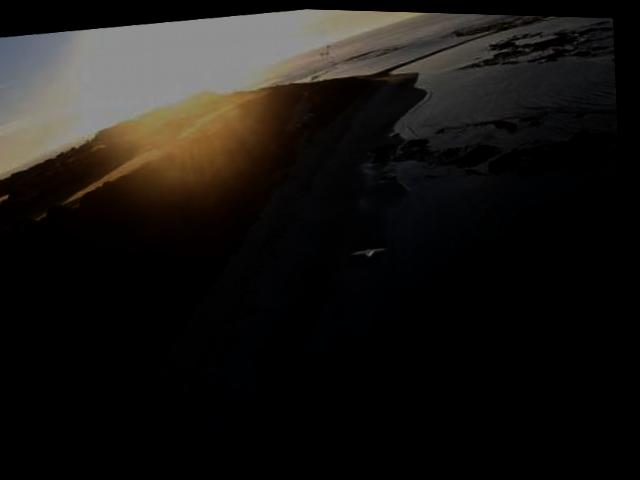uav: (353, 240, 391, 258)
